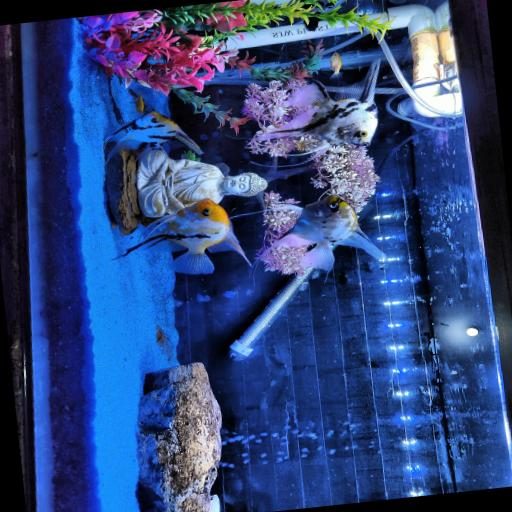Fish: (256, 58, 379, 162), (118, 198, 250, 273), (259, 195, 385, 270), (104, 111, 202, 160), (329, 51, 341, 78), (135, 94, 144, 113)
